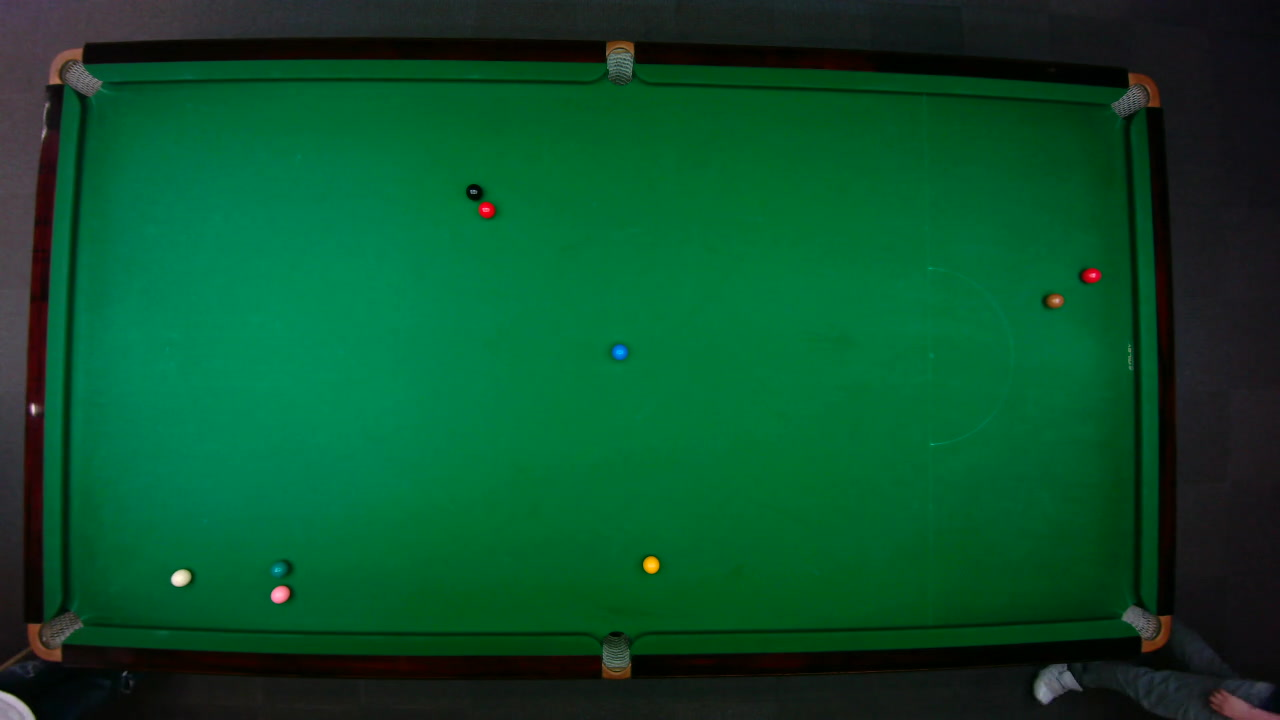bag: (26, 609, 84, 661), (46, 47, 103, 97), (1118, 603, 1172, 651), (1108, 71, 1161, 118), (601, 629, 630, 680), (605, 38, 633, 86)
black: (464, 183, 482, 200)
blue: (610, 342, 628, 360)
brown: (1044, 292, 1065, 308)
green: (268, 559, 289, 577)
pink: (269, 583, 291, 604)
red: (476, 200, 496, 219), (1080, 266, 1102, 283)
white: (169, 567, 192, 587)
yellow: (640, 554, 660, 574)
zone: (927, 266, 1013, 445)
